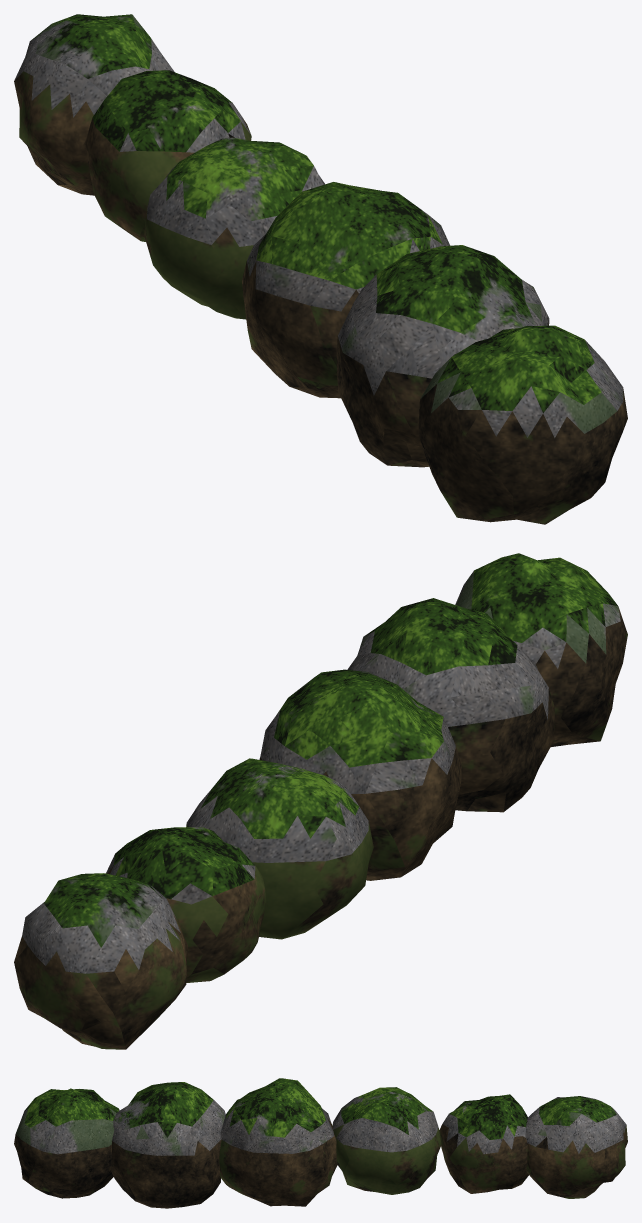
File: Bell_Edging_Cobble.glb
3 views of the same model, one above another, from view 1: azimuth 30°, elevation 25°; view 2: azimuth 150°, elevation 25°; view 3: azimuth 270°, elevation 25° (orthographic). The views are drawn at different scales.
Visible parts, largest first — view 1: Bell_Edging_Cobble__Stone; view 2: Bell_Edging_Cobble__Stone; view 3: Bell_Edging_Cobble__Stone.
Boxes of the visible parts, <box> form: Bell_Edging_Cobble__Stone: <box>14,14,627,524</box>; Bell_Edging_Cobble__Stone: <box>14,553,627,1049</box>; Bell_Edging_Cobble__Stone: <box>14,1078,627,1208</box>.
Bounding box in the file's own units: 1.74 × 1.61 × 8.12.
1 material, 1 textured.
